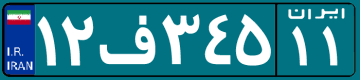character: (97, 10, 159, 72), (156, 7, 202, 69), (233, 6, 273, 72), (57, 9, 95, 71), (203, 7, 235, 70), (34, 14, 60, 69), (286, 24, 315, 70), (318, 22, 343, 72)
